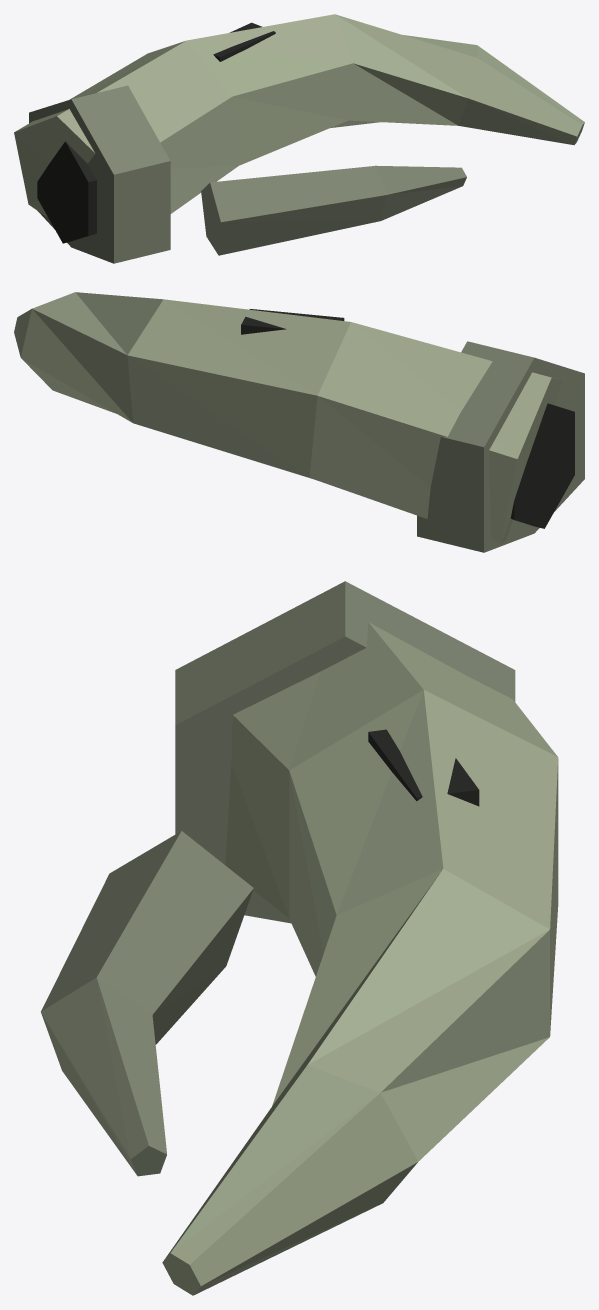
The model's file is ancient_tunneler_claw_1.obj.
3 views of the same model, one above another, from view 1: azimuth 30°, elevation 25°; view 2: azimuth 150°, elevation 25°; view 3: azimuth 270°, elevation 25° (orthographic). The views are drawn at different scales.
Visible parts, largest first — view 1: ancient_tunneler_claw_1; view 2: ancient_tunneler_claw_1; view 3: ancient_tunneler_claw_1.
Boxes of the visible parts, <box> form: ancient_tunneler_claw_1: <box>14,14,584,263</box>; ancient_tunneler_claw_1: <box>14,292,584,552</box>; ancient_tunneler_claw_1: <box>41,581,558,1295</box>.
Bounding box in the file's own units: 1.75 × 0.5388 × 0.791.
